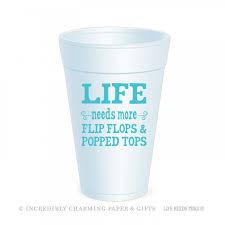Plastic cup: (49, 19, 184, 204)
